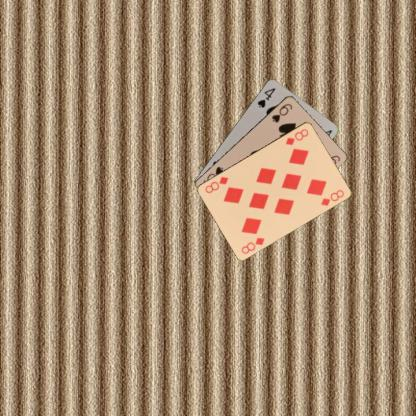4s: (255, 85, 277, 109)
6s: (269, 100, 294, 124)
8d: (282, 126, 310, 146), (238, 234, 266, 254)
